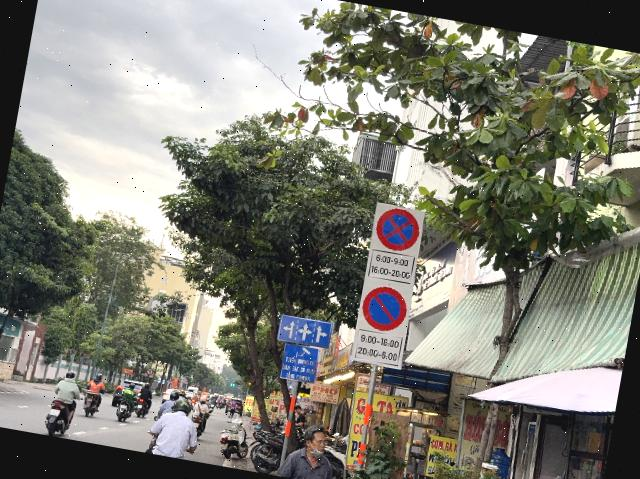cam-do-xe: (359, 283, 410, 334)
cam-dung-va-do-xe: (373, 204, 422, 254)
